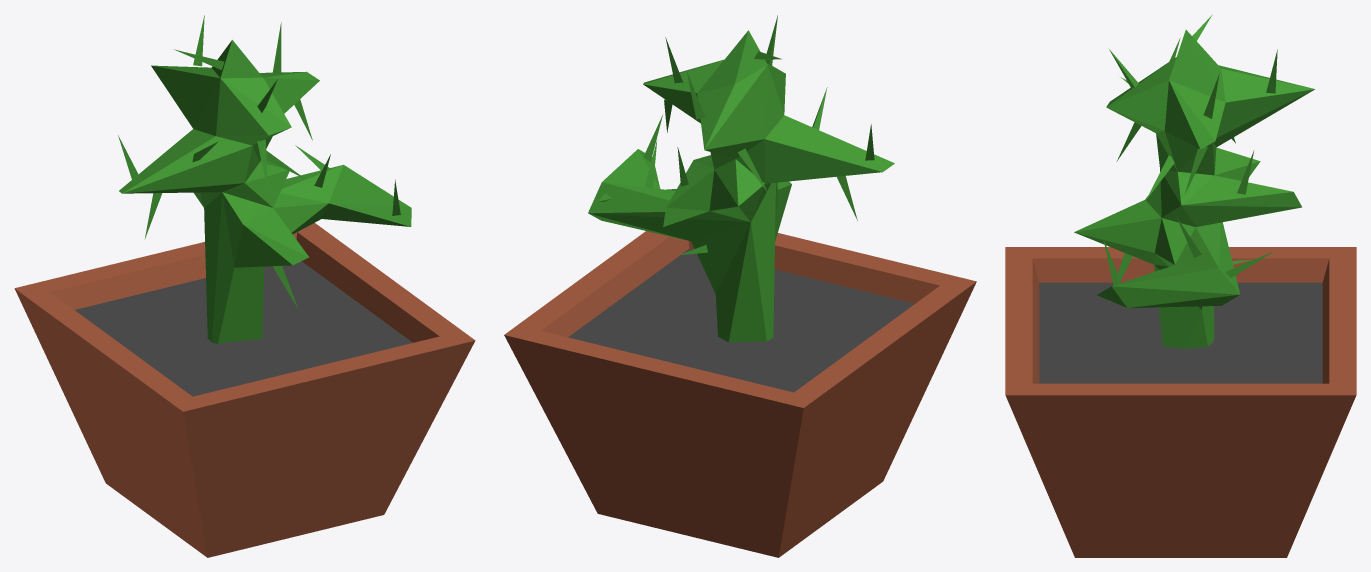
The model's file is cactus_plant.fbx.
3 renders of one model, left to right at view 1: azimuth 30°, elevation 25°; view 2: azimuth 150°, elevation 25°; view 3: azimuth 270°, elevation 25°, orthographic. The views are drawn at different scales.
Parts seen in each view (by area): view 1: cactus_plant; view 2: cactus_plant; view 3: cactus_plant.
Part boxes in pixels (x1,y1,x2,y2): cactus_plant: (14, 15, 475, 557); cactus_plant: (504, 15, 976, 557); cactus_plant: (1005, 14, 1356, 557).
Size of the model in its own units: 0.1605 by 0.2414 by 0.1605.
